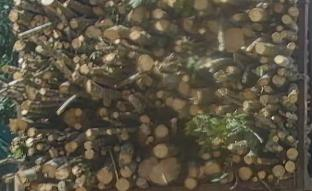large: (150, 159, 179, 184)
medium: (138, 158, 159, 179), (224, 28, 243, 50), (96, 168, 112, 183), (41, 164, 56, 179), (133, 6, 146, 23), (154, 145, 168, 158), (205, 163, 220, 175), (119, 153, 132, 166), (155, 124, 169, 136), (103, 30, 119, 40), (141, 56, 153, 69), (273, 165, 285, 178), (249, 9, 262, 21), (26, 86, 38, 99), (115, 179, 129, 190), (86, 28, 101, 38), (272, 75, 285, 86), (121, 144, 134, 155), (55, 168, 68, 179), (13, 40, 26, 51), (238, 169, 252, 179), (173, 99, 185, 110), (121, 167, 133, 178), (65, 141, 77, 152), (179, 82, 190, 93), (136, 178, 148, 188), (57, 181, 69, 191), (194, 0, 207, 9), (287, 148, 298, 158), (285, 161, 295, 172), (255, 43, 265, 54), (156, 20, 166, 31), (130, 31, 141, 41), (9, 10, 19, 21), (21, 100, 32, 110), (10, 119, 18, 132), (80, 65, 90, 75), (288, 7, 299, 16), (186, 179, 197, 188), (259, 95, 269, 104), (139, 125, 149, 134), (100, 110, 109, 120), (73, 39, 82, 49), (288, 93, 297, 102), (274, 4, 283, 13), (154, 9, 163, 18), (84, 141, 93, 150), (72, 166, 81, 175), (274, 55, 284, 63), (272, 32, 280, 42), (104, 54, 114, 62), (28, 127, 36, 137), (257, 171, 266, 179), (244, 156, 253, 164), (287, 42, 296, 50), (216, 106, 224, 115), (18, 120, 27, 128), (117, 102, 125, 111), (262, 85, 272, 92), (258, 79, 268, 86), (244, 29, 254, 36), (256, 66, 263, 76), (140, 116, 150, 123), (84, 151, 94, 158), (232, 155, 240, 163), (260, 109, 268, 117), (75, 178, 83, 186), (26, 138, 34, 146), (123, 90, 131, 98), (282, 16, 291, 23), (35, 157, 44, 164), (50, 148, 57, 157), (70, 20, 77, 29), (233, 14, 243, 20), (86, 81, 92, 91), (122, 132, 129, 140), (72, 72, 79, 80), (60, 84, 67, 92), (41, 0, 55, 4), (104, 98, 111, 106), (243, 101, 249, 110), (85, 130, 92, 137), (253, 24, 261, 30), (280, 31, 286, 38), (28, 148, 34, 155), (36, 143, 42, 150), (48, 134, 54, 141), (286, 112, 292, 118), (278, 68, 284, 74), (46, 185, 52, 191)
small: (215, 88, 226, 97), (189, 167, 197, 176), (165, 99, 174, 106), (226, 66, 233, 74), (181, 75, 189, 82), (155, 49, 163, 56), (260, 56, 267, 63), (157, 91, 164, 98), (36, 46, 43, 53), (53, 31, 59, 39), (202, 154, 211, 159), (278, 132, 285, 138), (292, 114, 298, 121), (74, 124, 82, 129), (273, 136, 279, 142), (227, 144, 233, 150), (214, 151, 220, 157), (175, 46, 181, 52), (40, 89, 46, 95), (199, 29, 206, 34), (147, 137, 154, 142), (128, 95, 135, 100), (256, 158, 261, 164), (237, 150, 243, 155), (237, 83, 242, 89), (114, 112, 119, 118), (98, 184, 104, 189), (157, 100, 162, 106), (76, 109, 81, 115), (21, 110, 27, 115), (13, 23, 18, 29), (57, 24, 63, 29), (242, 76, 246, 83), (253, 177, 258, 182), (268, 175, 273, 180), (277, 25, 282, 30), (176, 40, 181, 45), (141, 31, 146, 36), (101, 150, 106, 155), (74, 57, 79, 62), (36, 79, 41, 84), (63, 43, 68, 48), (18, 58, 23, 63), (277, 146, 283, 150), (232, 83, 236, 89), (205, 63, 211, 67), (114, 147, 120, 151), (64, 27, 70, 31), (251, 87, 256, 91), (172, 118, 177, 122), (130, 52, 134, 57), (49, 37, 53, 42), (288, 136, 292, 140), (145, 141, 149, 145), (107, 130, 111, 134), (63, 3, 67, 7), (146, 34, 151, 37), (286, 123, 289, 127), (262, 5, 266, 8), (18, 35, 22, 38), (280, 0, 285, 2), (272, 117, 275, 120), (8, 84, 10, 87), (287, 119, 289, 121), (256, 5, 258, 7), (51, 68, 53, 70)
